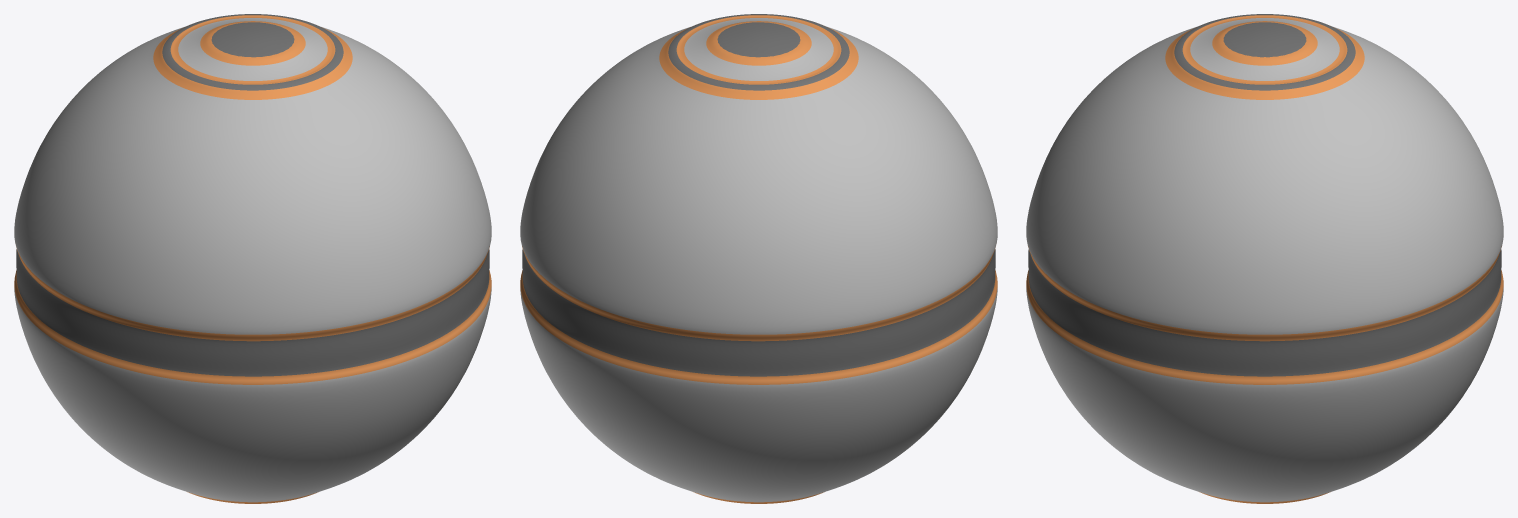
File: Boule plasma 1.fbx
3 renders of one model, left to right at view 1: azimuth 30°, elevation 25°; view 2: azimuth 150°, elevation 25°; view 3: azimuth 270°, elevation 25°, orthographic.
Parts seen in each view (by area): view 1: Sphere; view 2: Sphere; view 3: Sphere.
Boxes of the visible parts, bbox=[...] form: Sphere: bbox=[14, 14, 491, 503]; Sphere: bbox=[520, 14, 997, 503]; Sphere: bbox=[1026, 14, 1503, 503].
Size of the model in its own units: 196 by 202 by 196.
